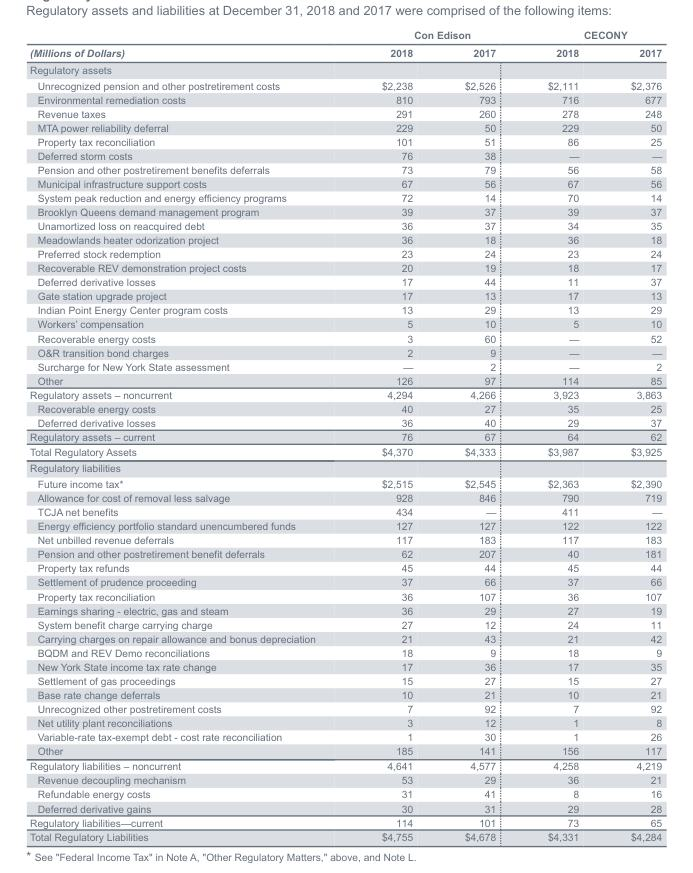table: (29, 28, 661, 842)
table column: (29, 28, 347, 842), (347, 28, 438, 842), (438, 28, 521, 842), (521, 28, 604, 842), (604, 28, 661, 842)
table column header: (29, 28, 661, 60)
table projected row header: (29, 60, 661, 77), (29, 459, 661, 475)
table row: (29, 43, 661, 60), (29, 60, 661, 77), (29, 443, 661, 459), (29, 459, 661, 475), (29, 28, 661, 43), (29, 77, 661, 92), (29, 330, 661, 345), (29, 475, 661, 490), (29, 588, 661, 603), (29, 743, 661, 758), (29, 800, 661, 815), (29, 92, 661, 106), (29, 106, 661, 120), (29, 120, 661, 134), (29, 134, 661, 148), (29, 148, 661, 162), (29, 162, 661, 176), (29, 176, 661, 190), (29, 190, 661, 204), (29, 204, 661, 218), (29, 218, 661, 232), (29, 232, 661, 246), (29, 246, 661, 260), (29, 260, 661, 274), (29, 274, 661, 288), (29, 288, 661, 302), (29, 302, 661, 316), (29, 316, 661, 330), (29, 345, 661, 359), (29, 359, 661, 373), (29, 373, 661, 387), (29, 387, 661, 401), (29, 401, 661, 415), (29, 415, 661, 429), (29, 429, 661, 443), (29, 490, 661, 504), (29, 504, 661, 518), (29, 518, 661, 532), (29, 532, 661, 546), (29, 546, 661, 560), (29, 560, 661, 574), (29, 574, 661, 588), (29, 603, 661, 617), (29, 617, 661, 631), (29, 631, 661, 645), (29, 645, 661, 659), (29, 659, 661, 673), (29, 673, 661, 687), (29, 687, 661, 701), (29, 701, 661, 715), (29, 715, 661, 729), (29, 729, 661, 743), (29, 758, 661, 772), (29, 772, 661, 786), (29, 786, 661, 800), (29, 815, 661, 829), (29, 829, 661, 842)
table spanning cell: (29, 28, 347, 60), (347, 28, 521, 43), (521, 28, 661, 43)
